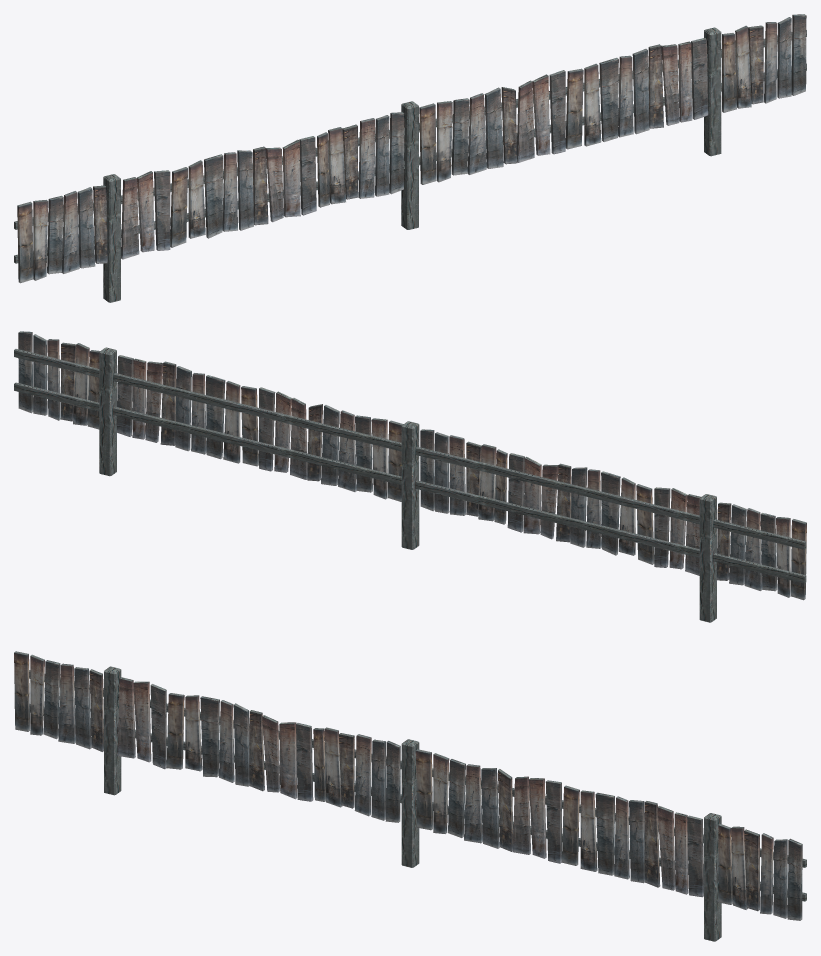
The model's file is WoodFenceLitleLong.FBX.
3 views of the same model, one above another, from view 1: azimuth 30°, elevation 25°; view 2: azimuth 150°, elevation 25°; view 3: azimuth 330°, elevation 25° (orthographic).
Parts seen in each view (by area): view 1: WoodFenceLitleLong; view 2: WoodFenceLitleLong; view 3: WoodFenceLitleLong.
Part boxes in pixels (x1=…): WoodFenceLitleLong: x1=14, y1=14, x2=806, y2=302; WoodFenceLitleLong: x1=14, y1=331, x2=806, y2=622; WoodFenceLitleLong: x1=14, y1=651, x2=806, y2=941.
Bounding box in the file's own units: 120 × 17.77 × 1.84.
